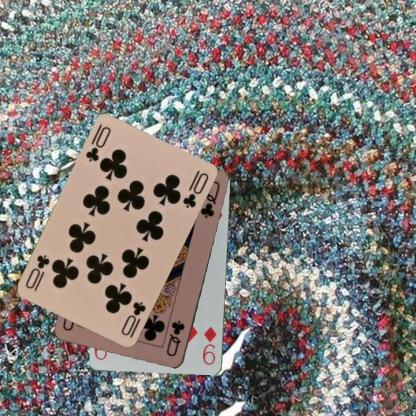10c: (83, 122, 112, 163), (118, 300, 147, 338)
9d: (200, 325, 218, 366)
Qc: (164, 318, 186, 358)
